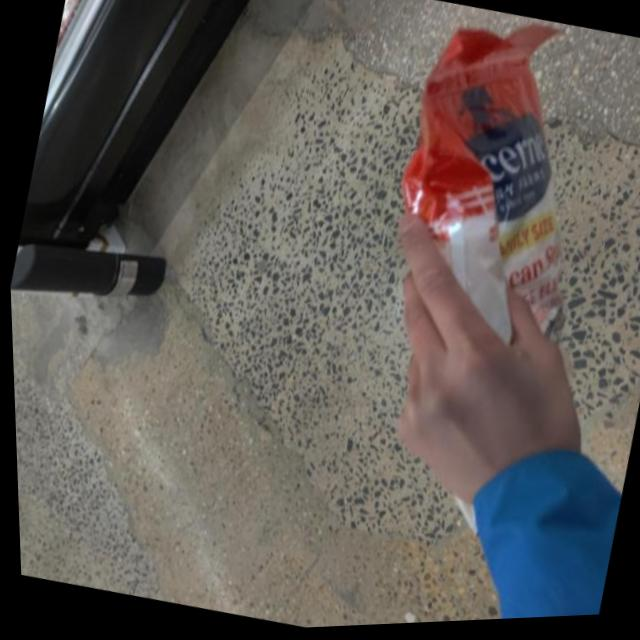Cheese: (375, 5, 634, 344)
